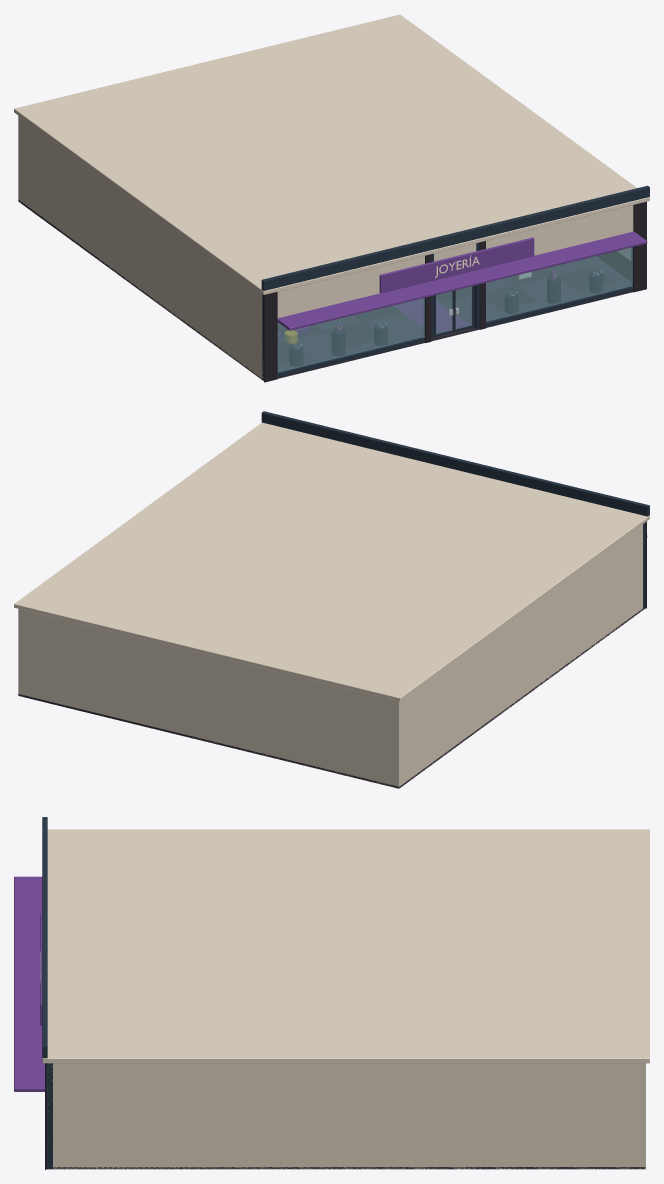
File: Local_Joyeria.fbx
3 renders of one model, top to bottom at view 1: azimuth 30°, elevation 25°; view 2: azimuth 150°, elevation 25°; view 3: azimuth 270°, elevation 25°, orthographic. The views are drawn at different scales.
Visible parts, largest first — view 1: Roof.002, WallSide.003, Floor.001, Storefront.003, Storefront.002, Canopy.002, Parapet.002, StoreTop.003, FloorTiles.002, StoreTop.002, SignBoard.002, Cladding.004 (+6 smaller); view 2: Roof.002, WallBack.002, WallSide.003, Parapet.002, Floor.001; view 3: Roof.002, WallSide.002, Canopy.002, Floor.001, Parapet.002, Pillar.002, WallBack.002.
Boxes of the visible parts, x1,y1,x2,y2 form: Roof.002: [14, 14, 649, 294]; WallSide.003: [18, 116, 263, 380]; Floor.001: [18, 200, 633, 380]; Storefront.003: [277, 298, 424, 372]; Storefront.002: [486, 247, 632, 321]; Canopy.002: [277, 231, 647, 330]; Parapet.002: [261, 185, 649, 290]; StoreTop.003: [277, 256, 424, 317]; FloorTiles.002: [278, 266, 614, 364]; StoreTop.002: [486, 205, 633, 255]; SignBoard.002: [379, 237, 534, 293]; Cladding.004: [264, 292, 277, 382]; Roof.002: [14, 422, 649, 701]; WallBack.002: [18, 609, 401, 788]; WallSide.003: [394, 524, 642, 786]; Parapet.002: [261, 411, 649, 516]; Floor.001: [18, 609, 642, 788]; Roof.002: [42, 829, 649, 1063]; WallSide.002: [47, 1063, 645, 1169]; Canopy.002: [14, 876, 44, 1091]; Floor.001: [51, 1167, 645, 1169]; Parapet.002: [42, 817, 47, 1058]; Pillar.002: [46, 1063, 52, 1169]; WallBack.002: [639, 1063, 645, 1169].
Size of the model in its own units: 20.1 by 5.1 by 23.55.
